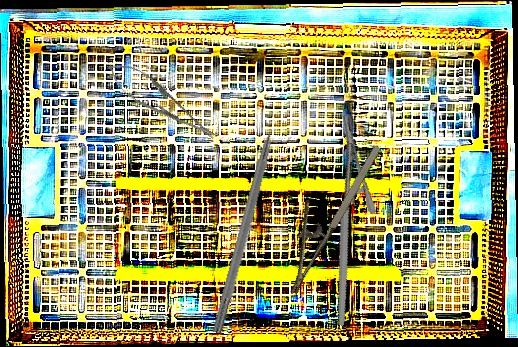Hook Surgical: (211, 107, 285, 335)
Needle Holder: (272, 111, 415, 327), (260, 129, 386, 297), (100, 54, 223, 150)
